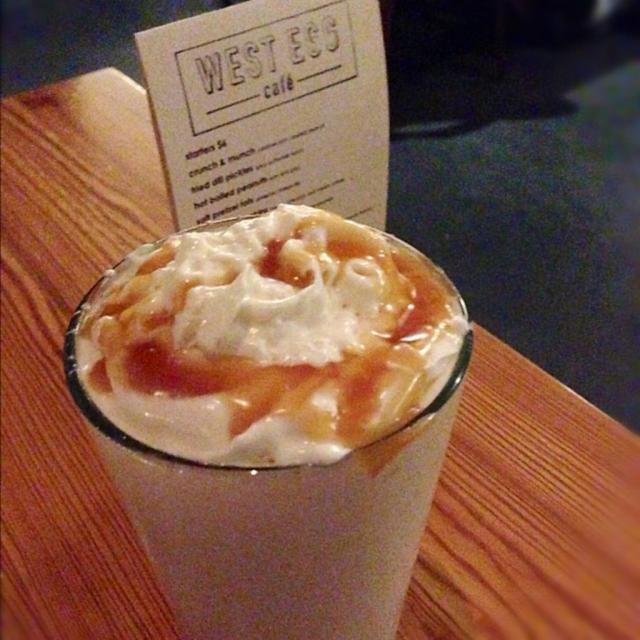Coffee: (66, 202, 476, 626)
